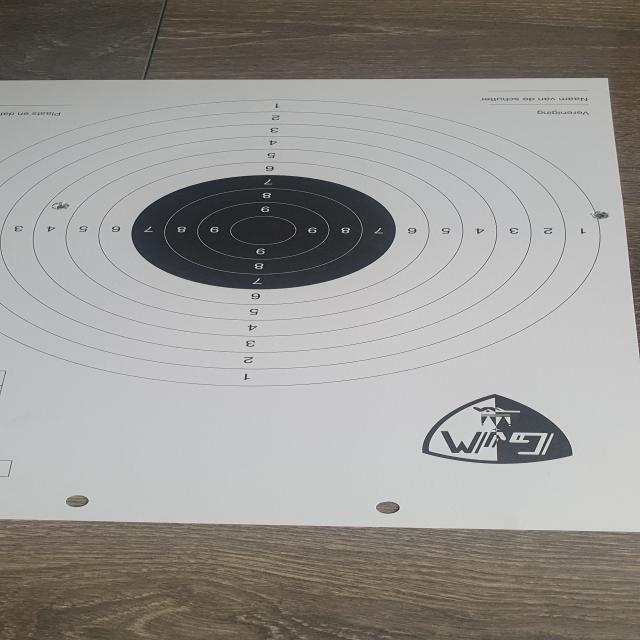1: (587, 210, 610, 220)
4: (50, 201, 71, 211)
Target: (0, 101, 616, 386)
black_contour: (130, 175, 397, 290)
